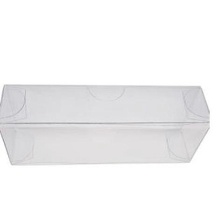plastic_box: (0, 75, 216, 177)
